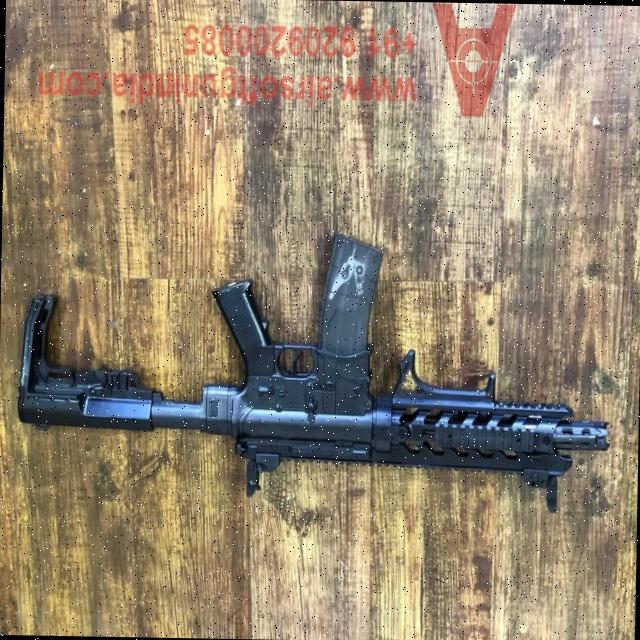Automaticrifle: (6, 230, 614, 504)
